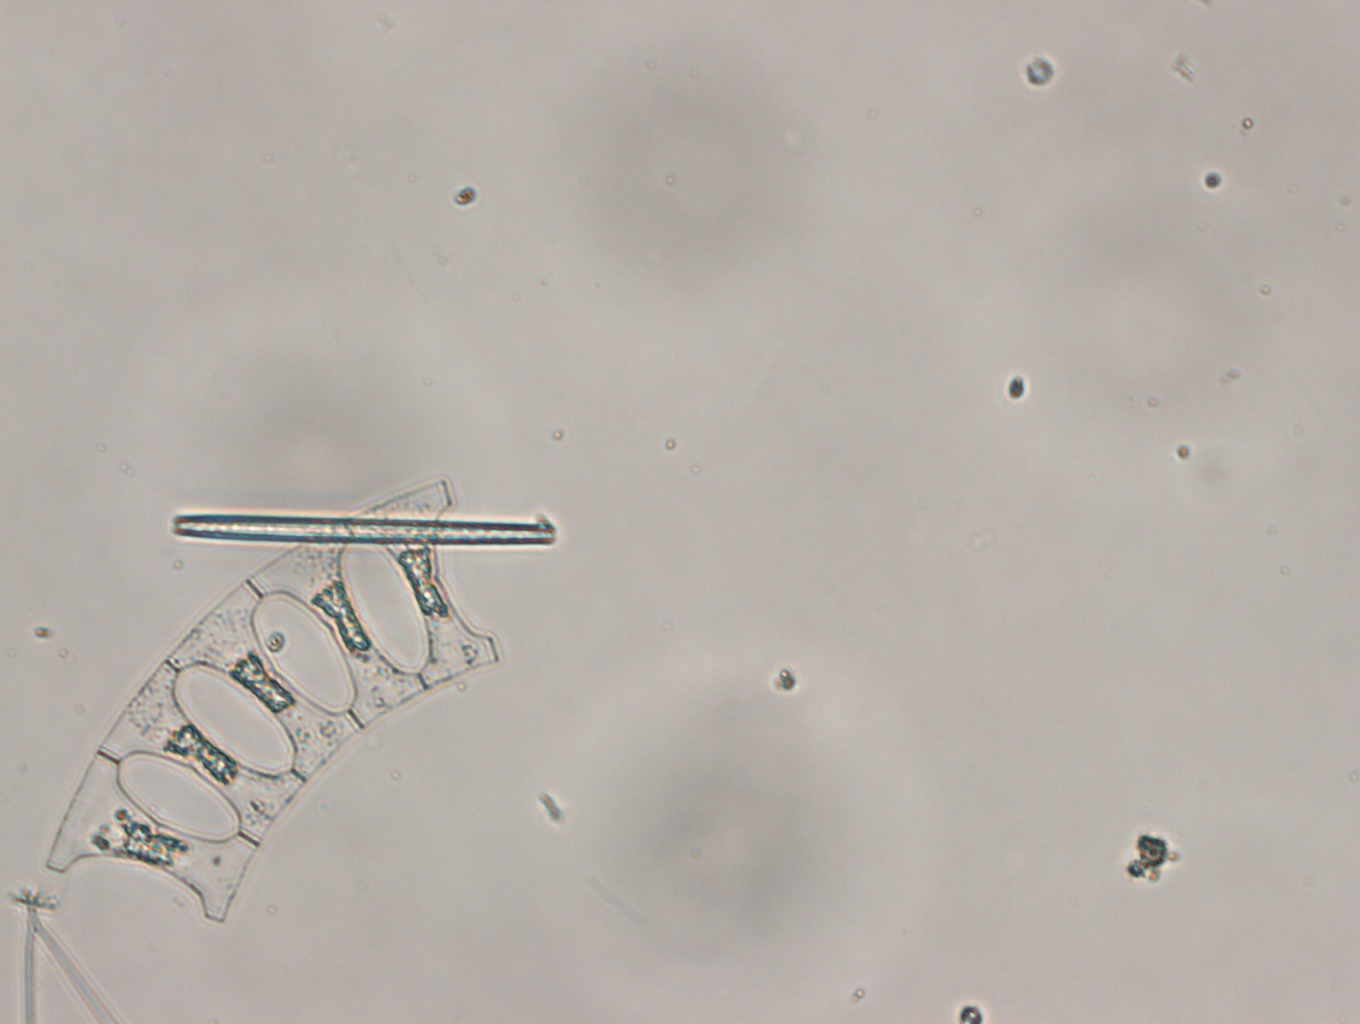eucampia: (35, 449, 513, 934)
